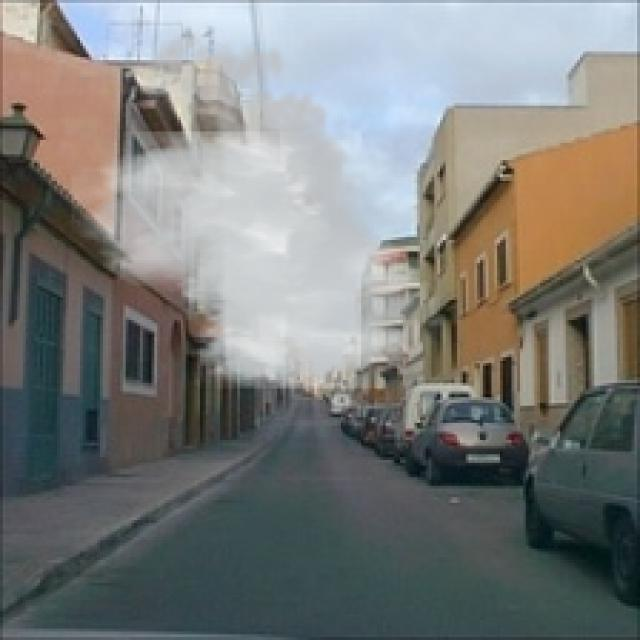smoke: (71, 23, 440, 388)
